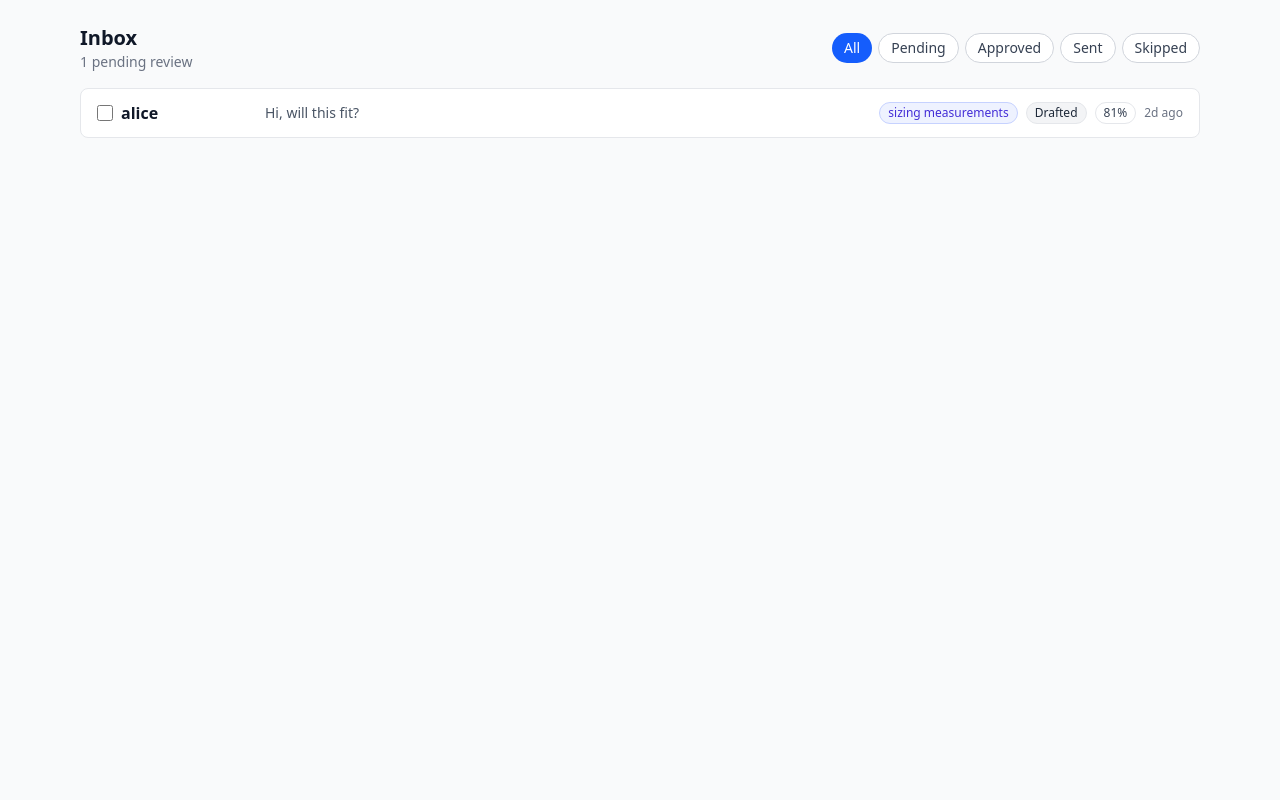
Test: InboxPage › batch-approve-by-category › clear button empties the selection
Click the checkbox with test id "select-m1": (105, 113) top-left (97, 105), bottom-right (113, 121)
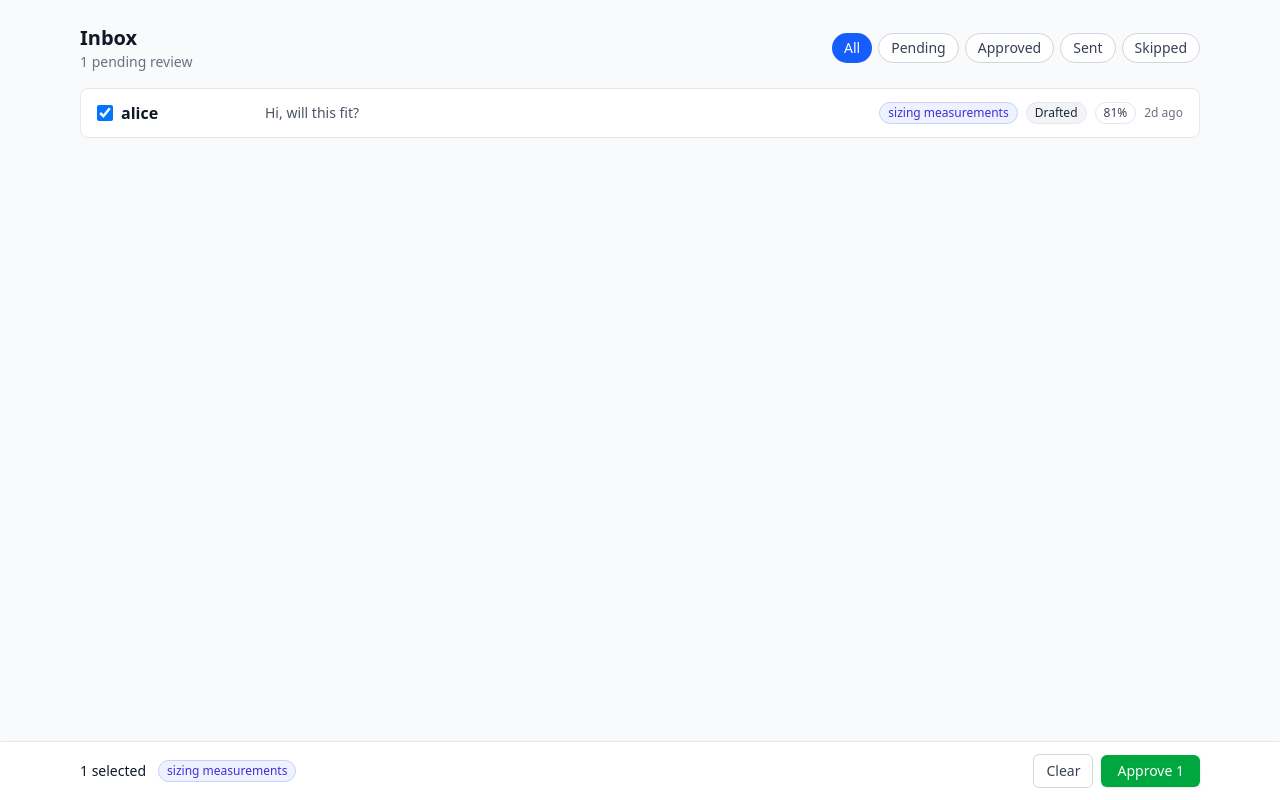
Now the element with test id "batch-approve-bar" is shown, box top-left (0, 741), bottom-right (1279, 799)
Click the button with test id "batch-clear": (1064, 771) top-left (1034, 754), bottom-right (1094, 788)
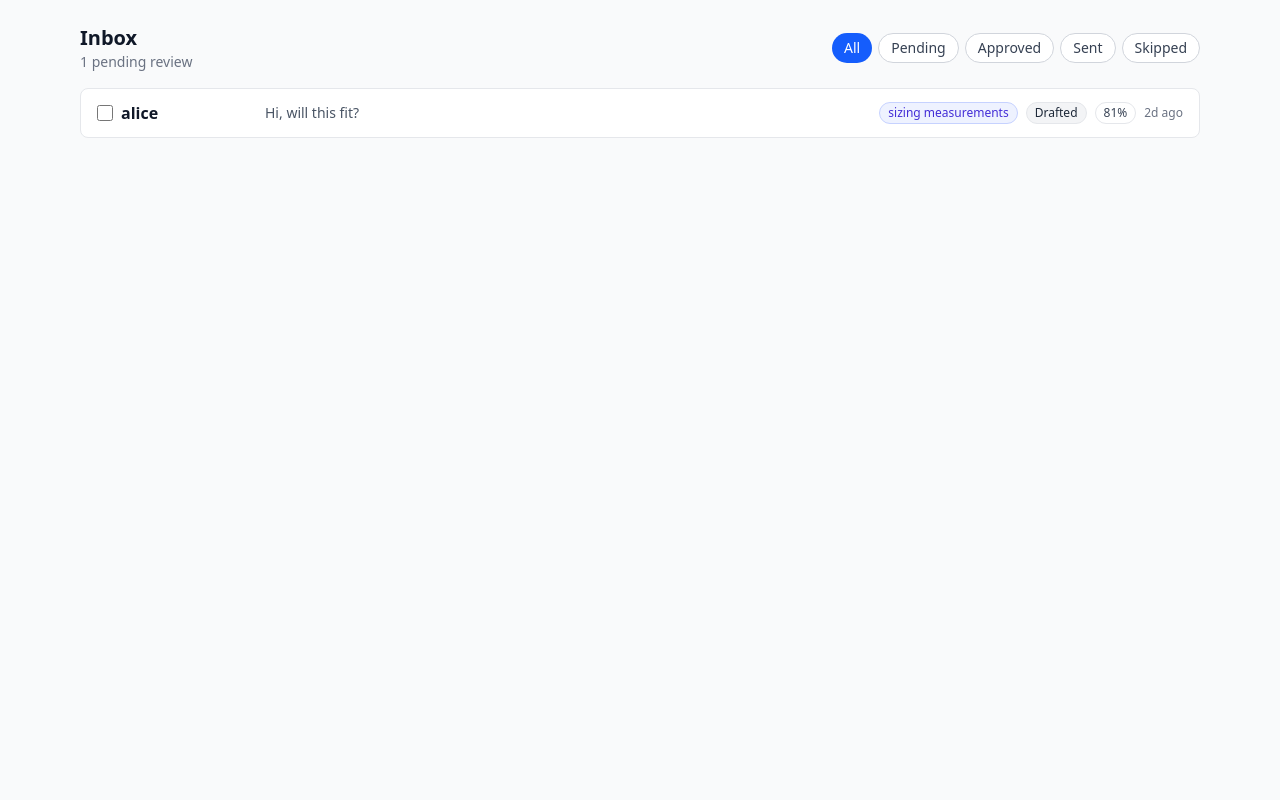
Now the element with test id "batch-approve-bar" is gone
